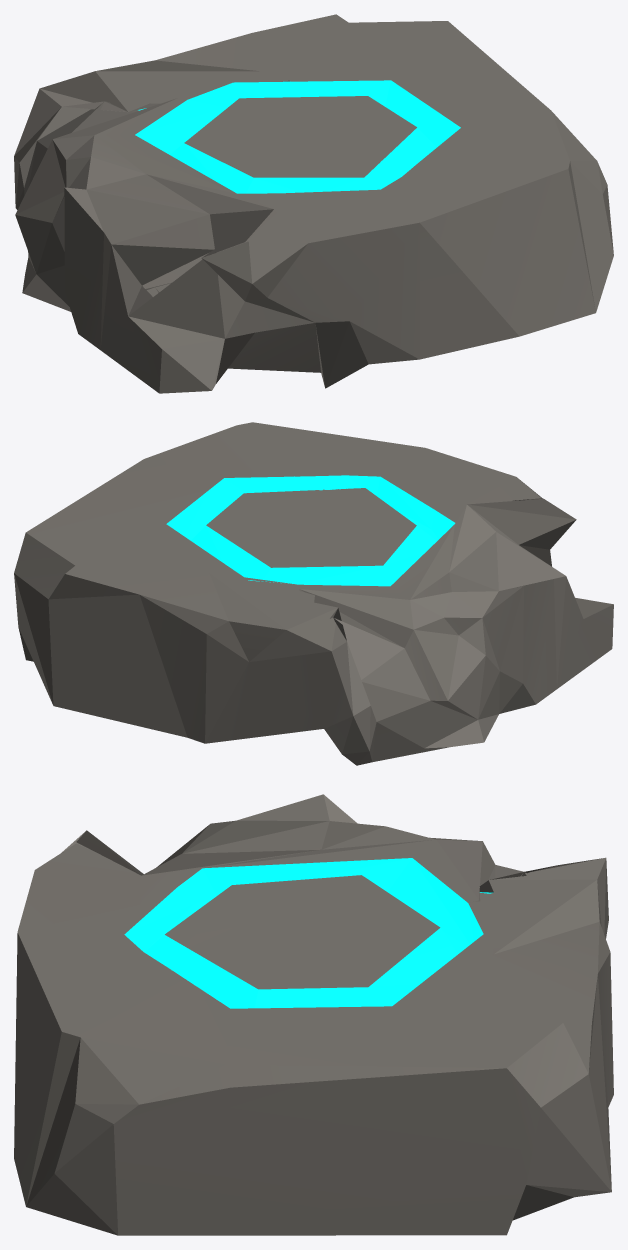
3 renders of one model, top to bottom at view 1: azimuth 30°, elevation 25°; view 2: azimuth 150°, elevation 25°; view 3: azimuth 270°, elevation 25°, orthographic. The views are drawn at different scales.
Visible parts, largest first — view 1: Obj3d66-1649282-39-801; view 2: Obj3d66-1649282-39-801; view 3: Obj3d66-1649282-39-801.
Boxes of the visible parts, x1,y1,x2,y2 form: Obj3d66-1649282-39-801: (14, 14, 613, 393); Obj3d66-1649282-39-801: (14, 422, 613, 765); Obj3d66-1649282-39-801: (14, 794, 613, 1235).
Size of the model in its own units: 959 by 329 by 888.
1 material, 1 textured.
